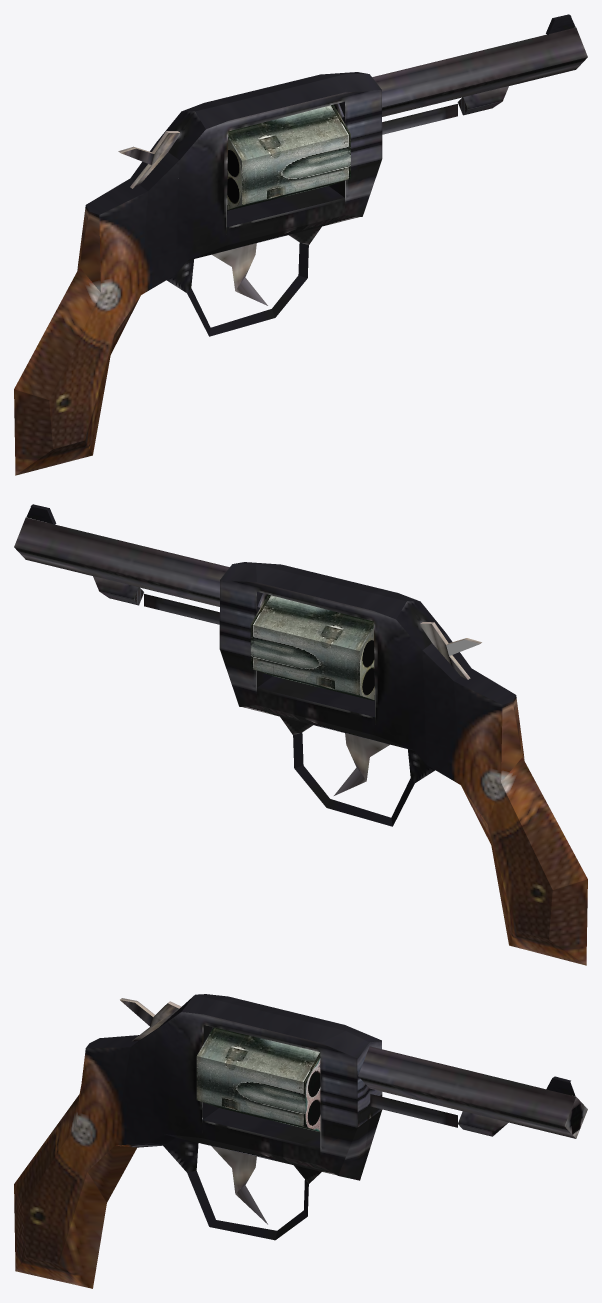
3 renders of one model, top to bottom at view 1: azimuth 30°, elevation 25°; view 2: azimuth 150°, elevation 25°; view 3: azimuth 330°, elevation 25°, orthographic.
Visible parts, largest first — view 1: 38SpecialBody, 38SpecialCylinder, 38SpecialTrigger&Hammer; view 2: 38SpecialBody, 38SpecialCylinder, 38SpecialTrigger&Hammer; view 3: 38SpecialBody, 38SpecialCylinder, 38SpecialTrigger&Hammer.
Boxes of the visible parts, x1,y1,x2,y2 form: 38SpecialBody: [14, 14, 587, 475]; 38SpecialCylinder: [227, 104, 350, 210]; 38SpecialTrigger&Hammer: [118, 131, 267, 305]; 38SpecialBody: [14, 504, 587, 965]; 38SpecialCylinder: [250, 594, 374, 700]; 38SpecialTrigger&Hammer: [334, 622, 481, 795]; 38SpecialBody: [14, 994, 587, 1288]; 38SpecialCylinder: [196, 1027, 320, 1132]; 38SpecialTrigger&Hammer: [120, 998, 267, 1224].
Size of the model in its own units: 2.46 by 1.36 by 0.3433.
Materials: 3 (3 with a texture image).
